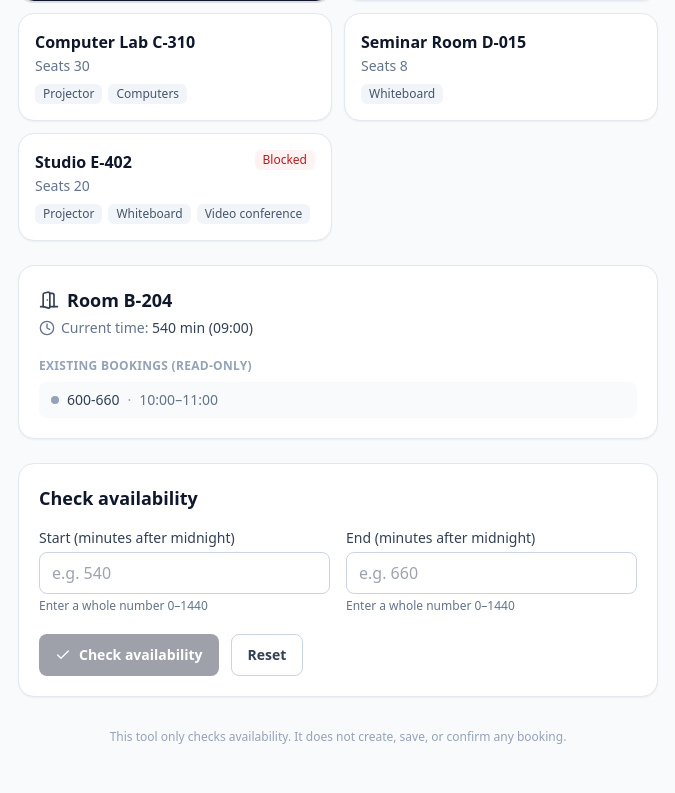
Test: Assignment 3 behavior in the multi-room UI › a blocked room can never replace an AVAILABLE answer with an available one (Fix 1/F3, adapted from the toggle test)
(page scrolled)
Type "700" into the number field labelled "Start (minutes after midnight)". click: [184, 573]
box: [39, 552, 330, 594]
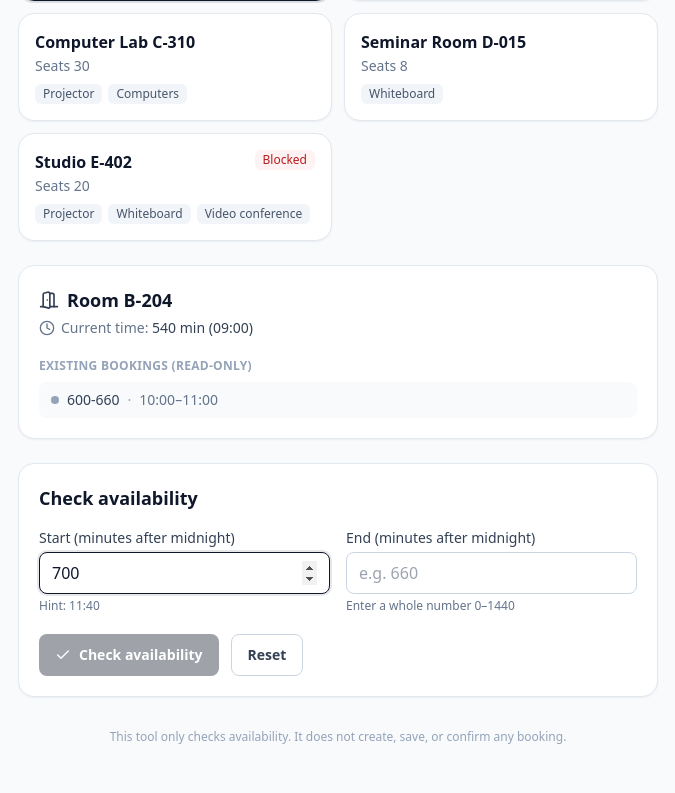
Type "760" into the number field labelled "End (minutes after midnight)". click: [492, 573]
box: [346, 552, 637, 594]
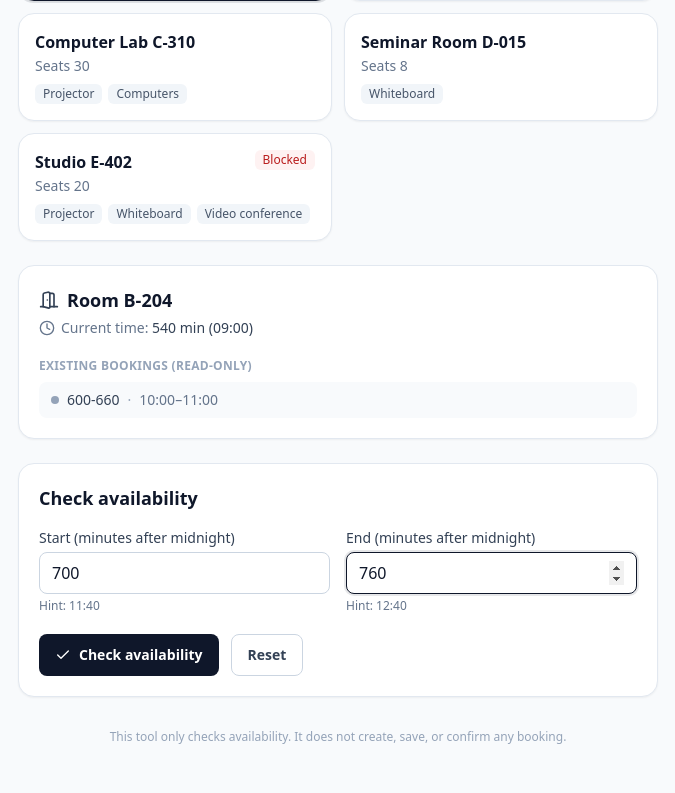
Click the button "Check availability". click: [129, 655]
box: [39, 634, 218, 676]
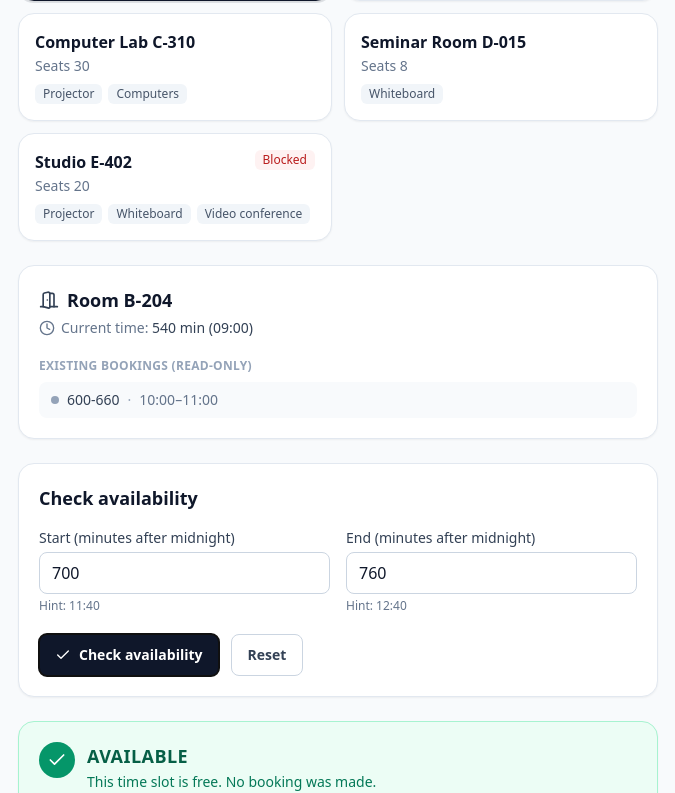
Result: the text "AVAILABLE" is shown at [87, 744, 188, 768]
Click the button "Studio E-402". click: [83, 162]
box: [18, 133, 332, 241]
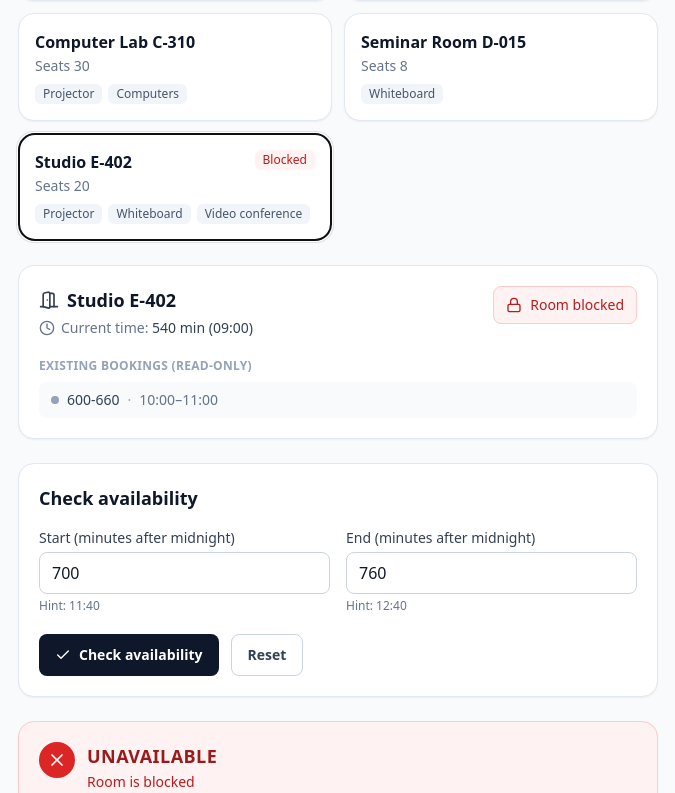
Result: the text "Room is blocked" is shown at [87, 772, 195, 791]
